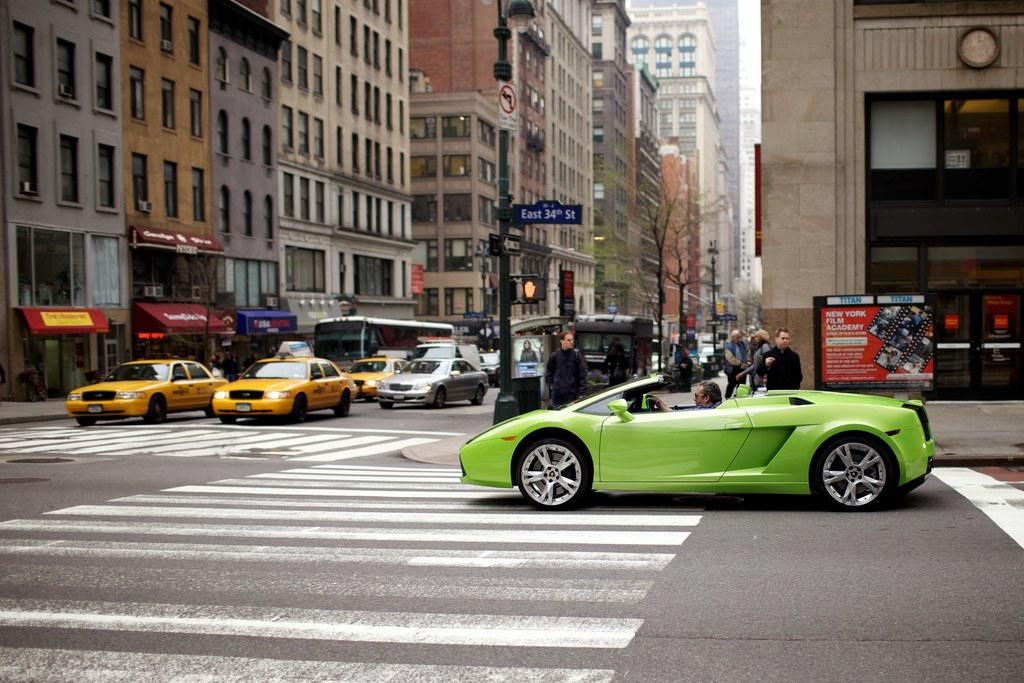taxi: (65, 356, 231, 424), (213, 359, 358, 425), (341, 355, 403, 400)
